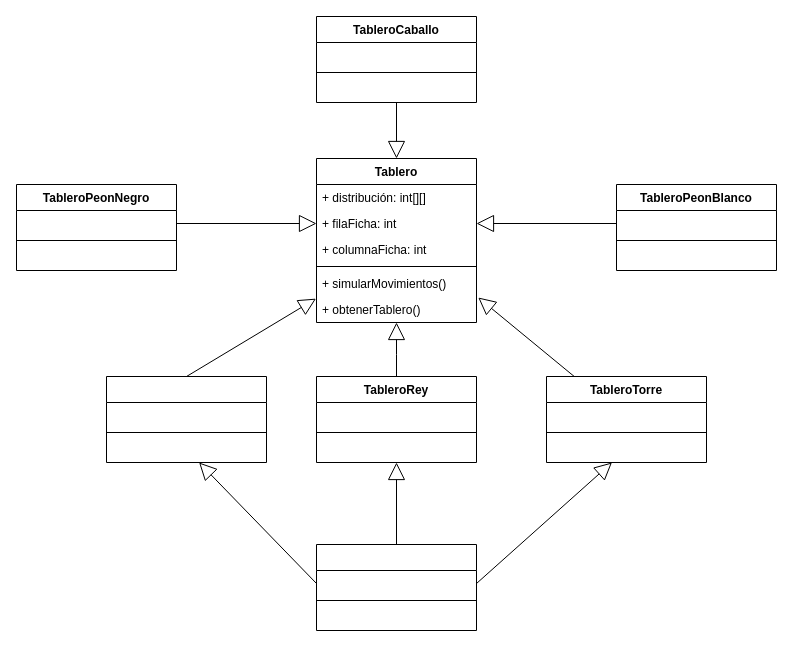
Some shapes in this 793 by 647 pixel diagram are drawn without their labels. Here are the shapes that lost their labels. From the top down, the centre of each, then its label:
point 186,419: TableroAlfil
point 396,587: TableroReina
